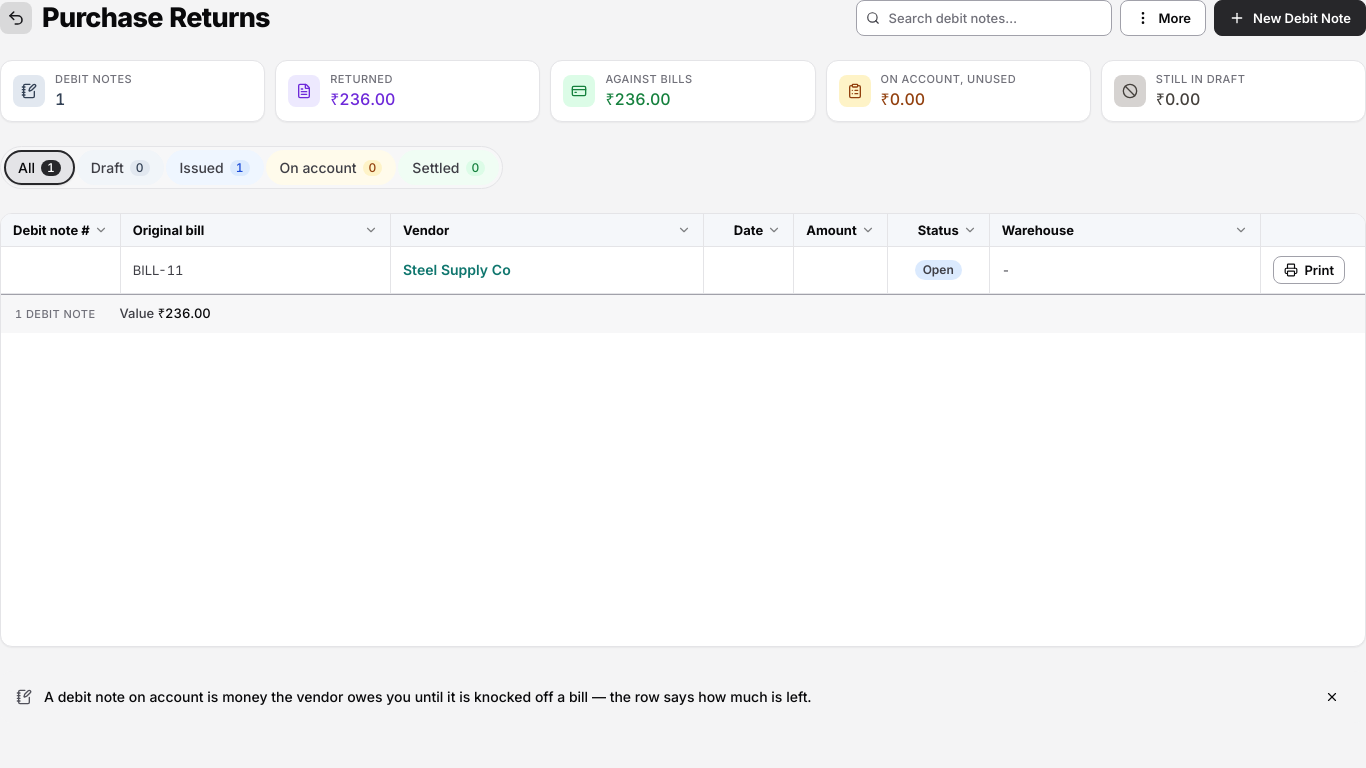
it: printing a debit note › puts the note on paper against its original bill
Step 1. Click the button with aria-label "Print debit note DN-2" → [1309, 270], box [1273,256,1345,284]
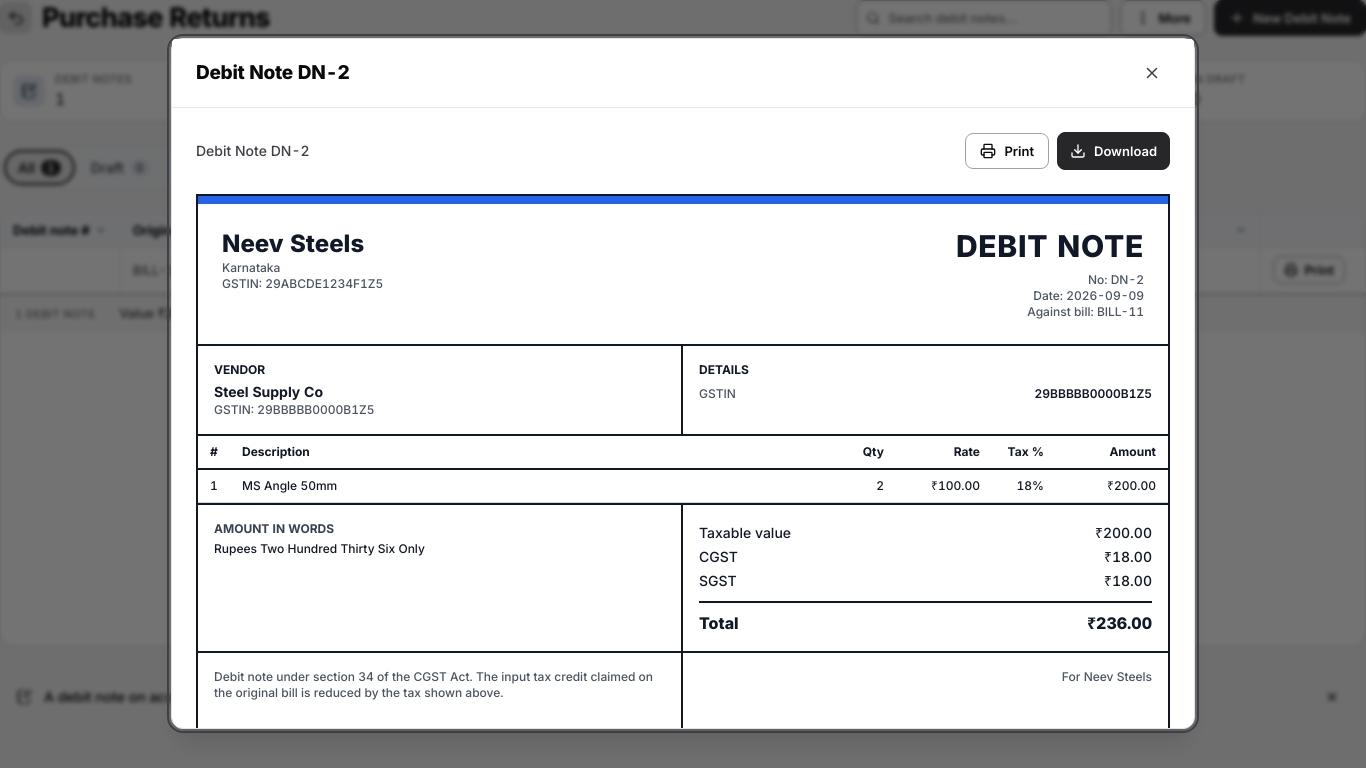
Check: the element that starts with "Neev Steels" is shown, box [196,194,1170,729]
Check: the text "DEBIT NOTE" is shown, box [956,228,1144,264]
Check: the text "No: DN-2" is shown, box [1088,272,1144,287]
